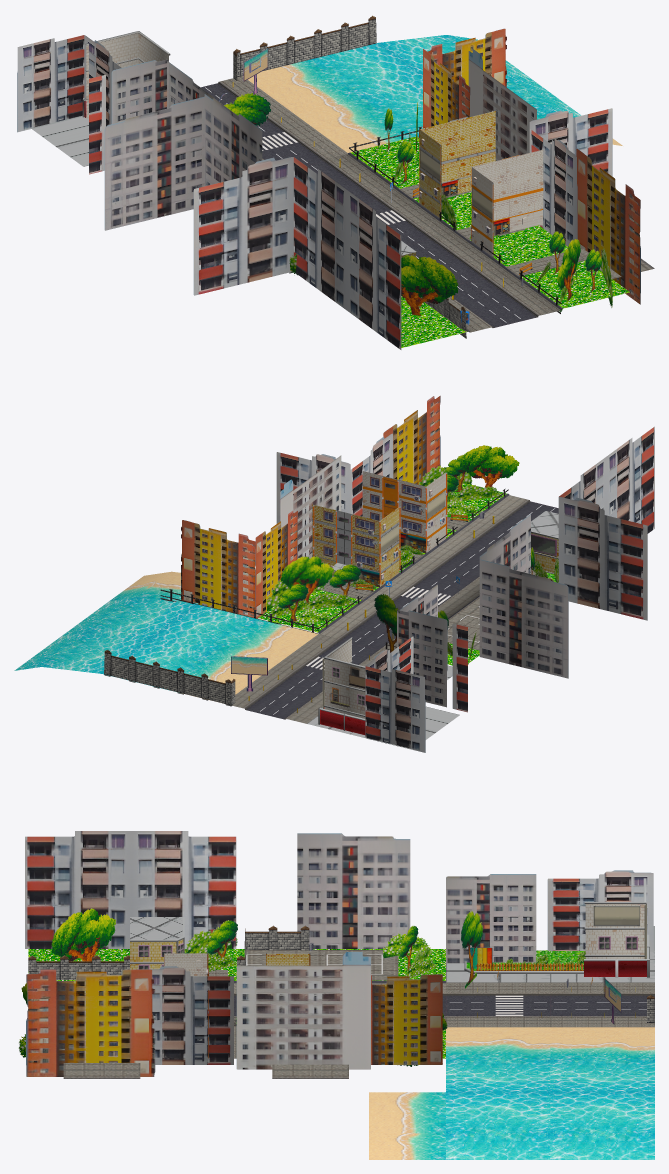
File: road2.glb
The picture shows the model from 3 angles, top to bottom: view 1: azimuth 30°, elevation 25°; view 2: azimuth 150°, elevation 25°; view 3: azimuth 270°, elevation 25°; orthographic projection. The views are drawn at different scales.
Parts seen in each view (by area): view 1: Prefab2_road.002; view 2: Prefab2_road.002; view 3: Prefab2_road.002.
Boxes of the visible parts, x1=… form: Prefab2_road.002: x1=17, y1=15, x2=654, y2=349; Prefab2_road.002: x1=14, y1=395, x2=654, y2=752; Prefab2_road.002: x1=18, y1=831, x2=654, y2=1159.
Size of the model in its own units: 102 by 27.7 by 115.
1 material, 1 textured.
